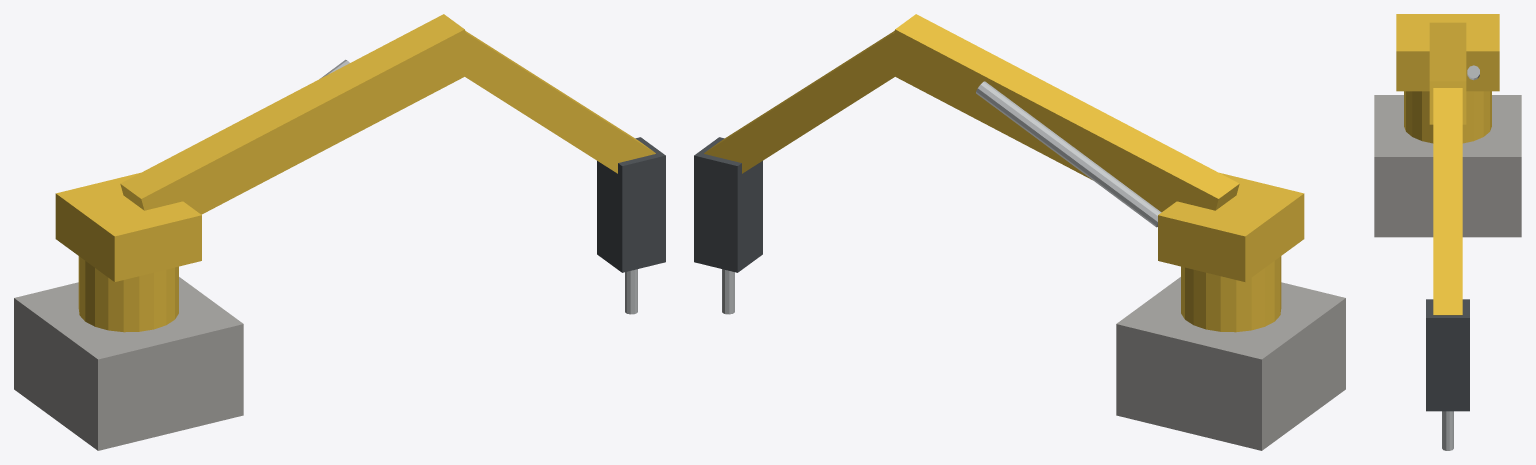
File: UG_RockBreaker.glb
3 views of the same model, side by side, from view 1: azimuth 30°, elevation 25°; view 2: azimuth 150°, elevation 25°; view 3: azimuth 270°, elevation 25° (orthographic). The views are drawn at different scales.
Parts seen in each view (by area): view 1: RB_Pedestal, RB_Boom, RB_Slew, RB_Hammer, RB_Stick; view 2: RB_Pedestal, RB_Boom, RB_Slew, RB_Hammer, RB_Stick; view 3: RB_Pedestal, RB_Stick, RB_Slew, RB_Hammer, RB_Boom.
Boxes of the visible parts, left/top/right/bottom form: RB_Pedestal: left=14, top=256, right=243, bottom=450; RB_Boom: left=120, top=14, right=475, bottom=214; RB_Slew: left=55, top=172, right=201, bottom=281; RB_Hammer: left=597, top=137, right=665, bottom=314; RB_Stick: left=465, top=31, right=655, bottom=173; RB_Pedestal: left=1116, top=256, right=1345, bottom=450; RB_Boom: left=884, top=14, right=1239, bottom=227; RB_Slew: left=1158, top=172, right=1304, bottom=281; RB_Hammer: left=694, top=137, right=762, bottom=314; RB_Stick: left=704, top=31, right=894, bottom=173; RB_Pedestal: left=1374, top=91, right=1521, bottom=237; RB_Stick: left=1433, top=88, right=1462, bottom=315; RB_Slew: left=1396, top=14, right=1499, bottom=91; RB_Hammer: left=1426, top=299, right=1469, bottom=450; RB_Boom: left=1429, top=22, right=1479, bottom=124.
Bounding box in the file's own units: 8.2 × 4.37 × 2.
